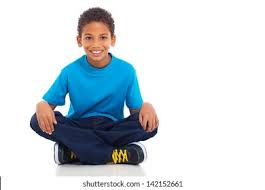person: (76, 6, 116, 64)
